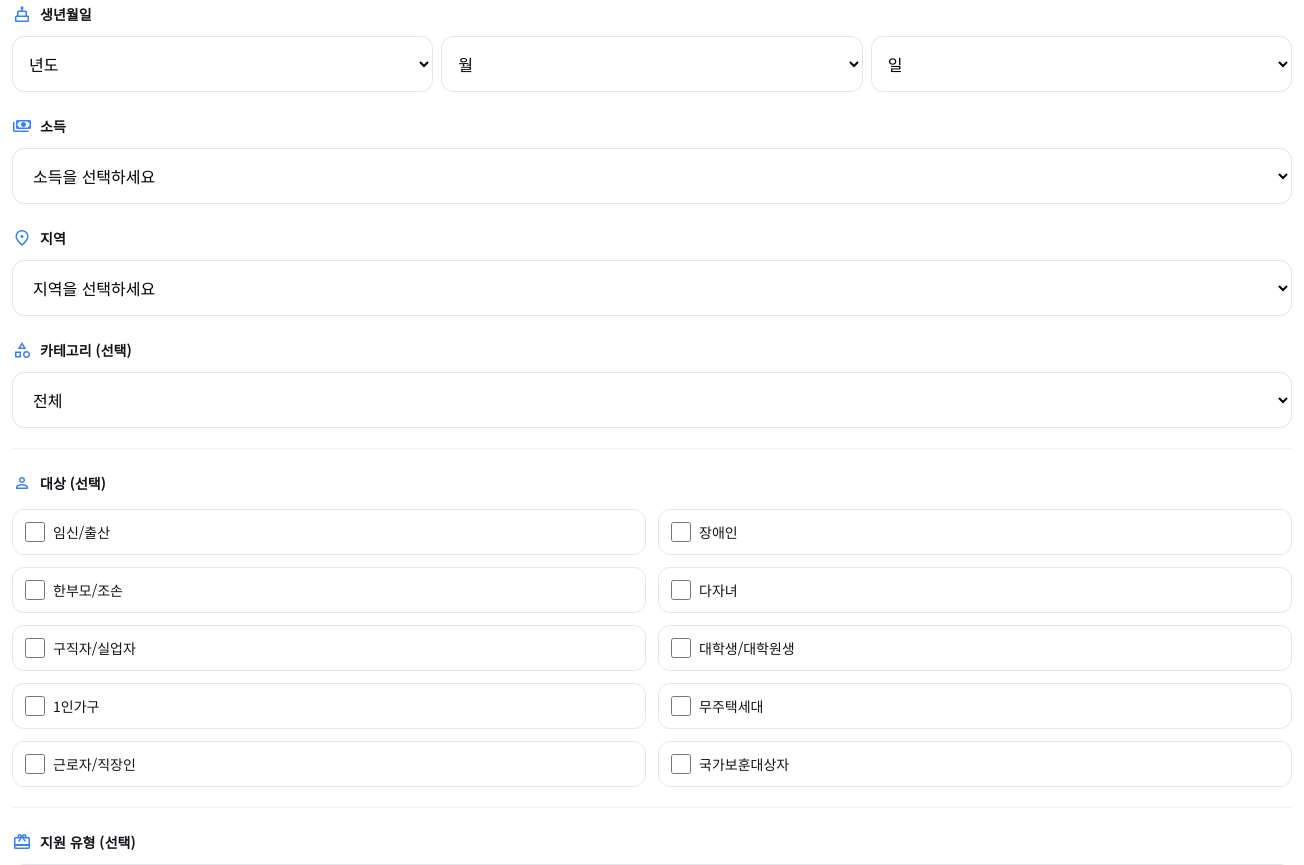
SearchForm.vue › 생년월일 입력 시 만 나이가 계산되어 표시되어야 한다
The width and height of the screenshot is (1304, 865).
# 1998-06-15 생년월일 입력 → 2026-01-15 기준 만 27세
Select "1998년" in the 1st dropdown at {"x": 223, "y": 64}, box [12,36,433,92]
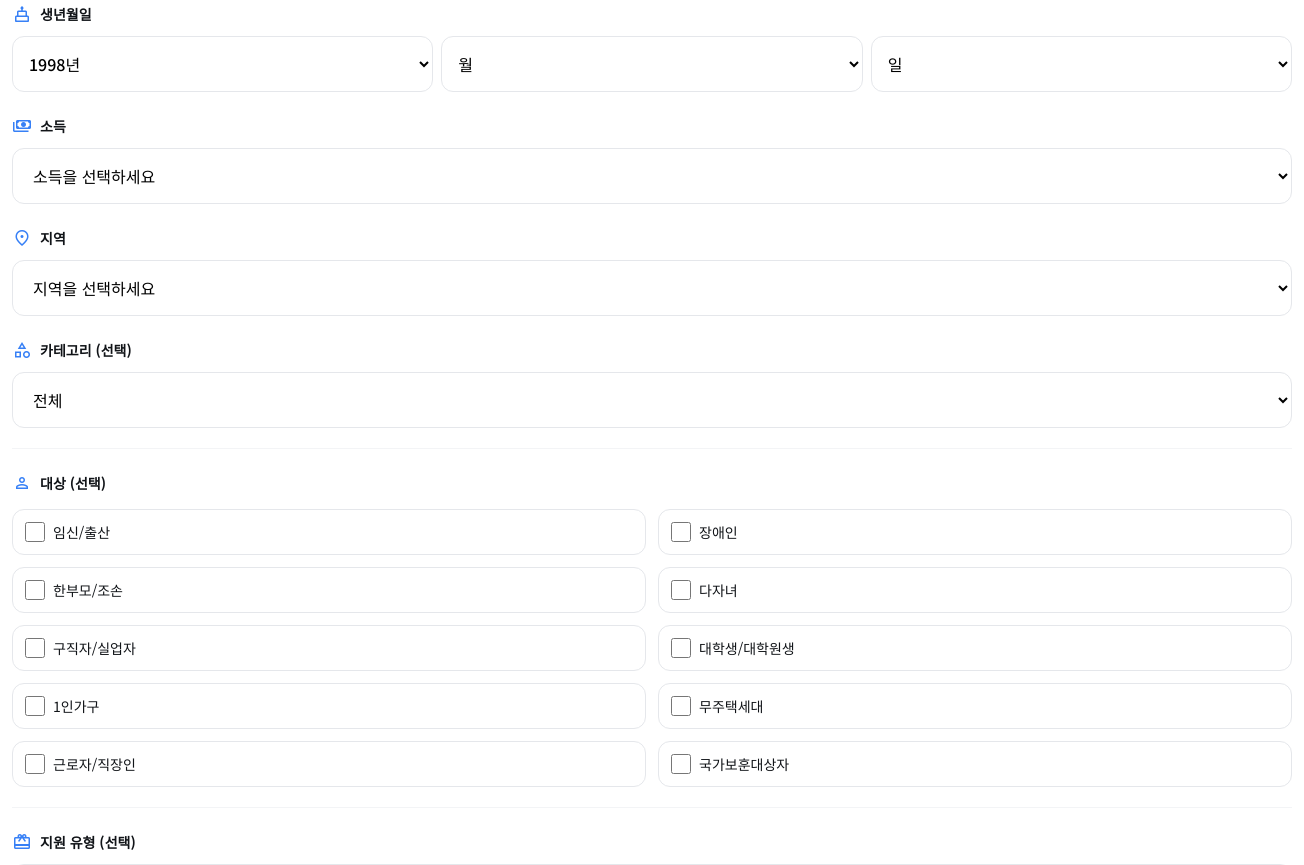
Select "6월" in the 2nd dropdown at {"x": 652, "y": 64}, box [441,36,863,92]
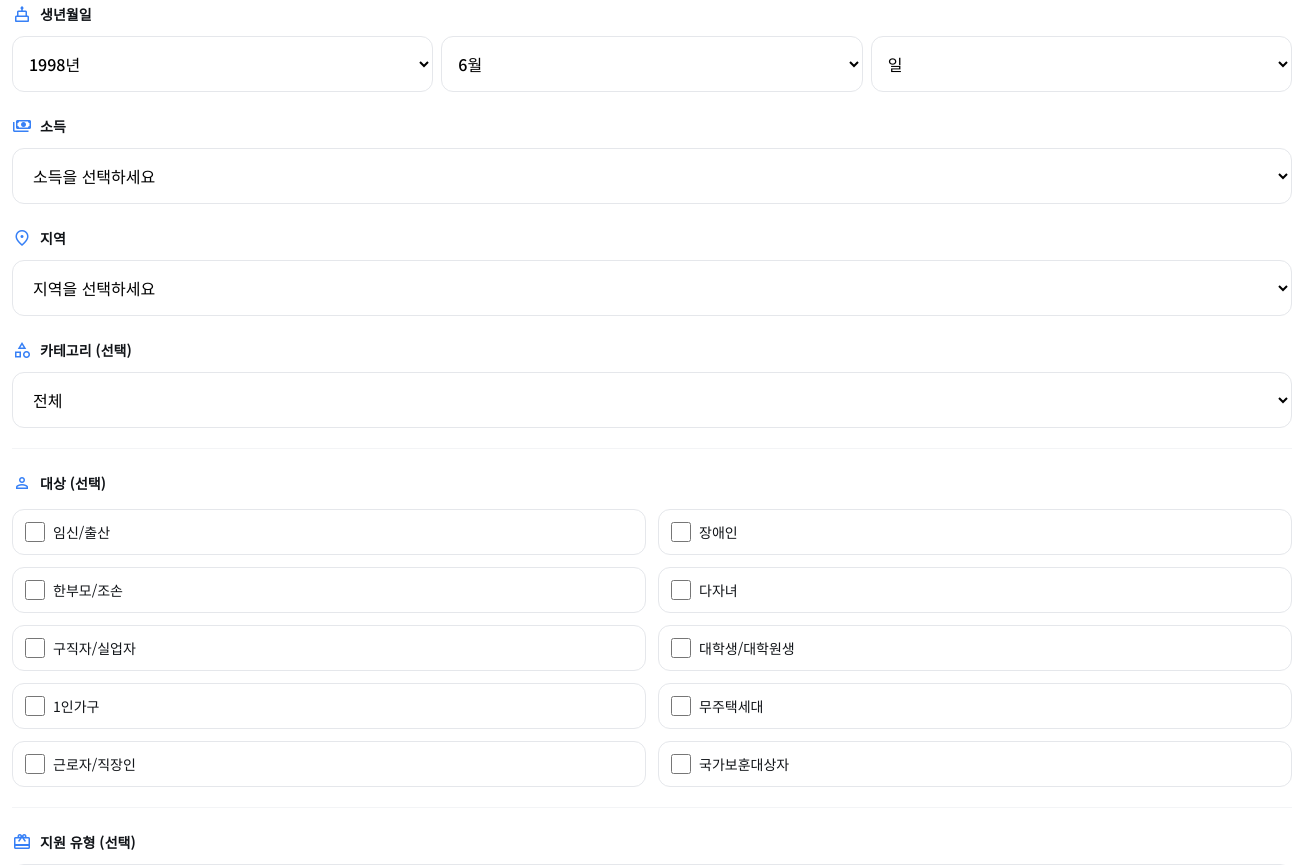
Select "15일" in the 3rd dropdown at {"x": 1081, "y": 64}, box [871,36,1292,92]
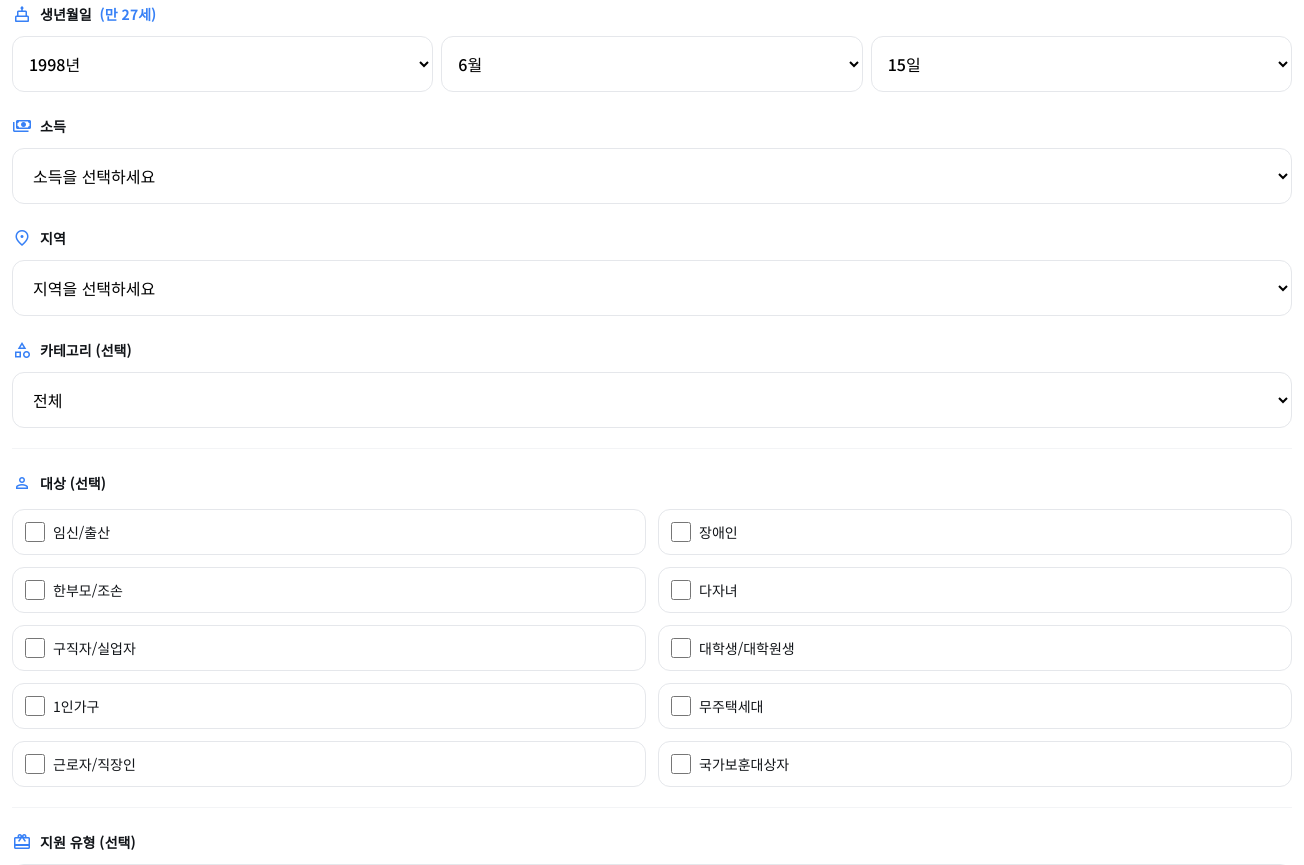
Now the text "만 27세" is shown, box [100,4,156,24]
